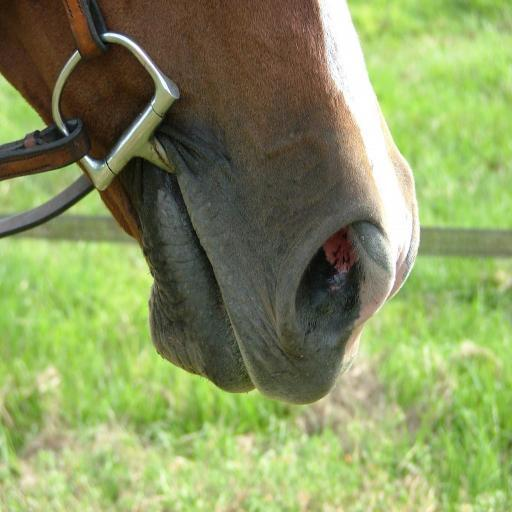Horse: (0, 2, 421, 406)
